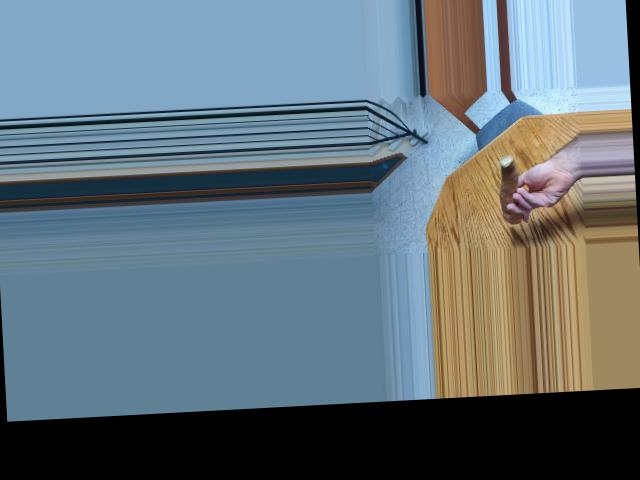sweet_potato: (497, 153, 528, 225)
